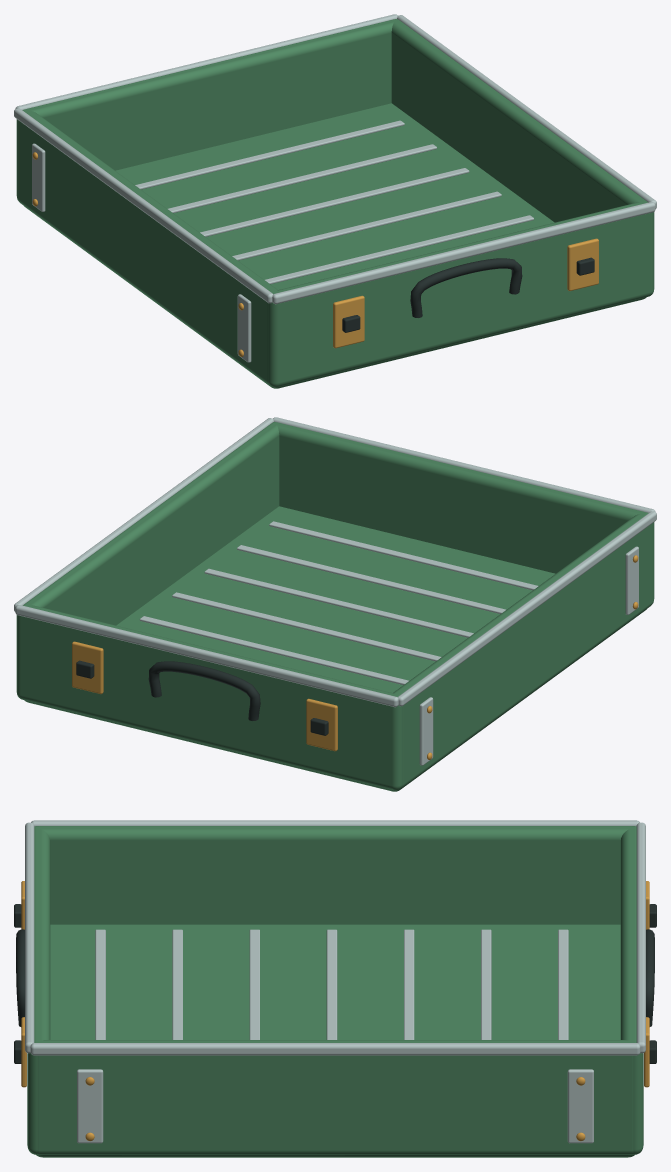
File: metal-toolbox.glb
3 renders of one model, top to bottom at view 1: azimuth 30°, elevation 25°; view 2: azimuth 150°, elevation 25°; view 3: azimuth 270°, elevation 25°, orthographic. The views are drawn at different scales.
Parts seen in each view (by area): view 1: green, steel, brass, dark; view 2: green, steel, brass, dark; view 3: green, steel, dark, brass.
Boxes of the visible parts, <box> form: green: <box>16,19,654,388</box>; steel: <box>14,14,656,362</box>; brass: <box>32,152,598,356</box>; dark: <box>342,257,594,332</box>; green: <box>16,422,654,791</box>; steel: <box>14,417,656,765</box>; brass: <box>72,555,638,759</box>; dark: <box>76,660,328,735</box>; green: <box>27,826,643,1157</box>; steel: <box>25,820,645,1143</box>; dark: <box>14,904,656,1063</box>; brass: <box>21,881,649,1141</box>.
Bounding box in the file's own units: 1.56 × 0.372 × 1.83.
